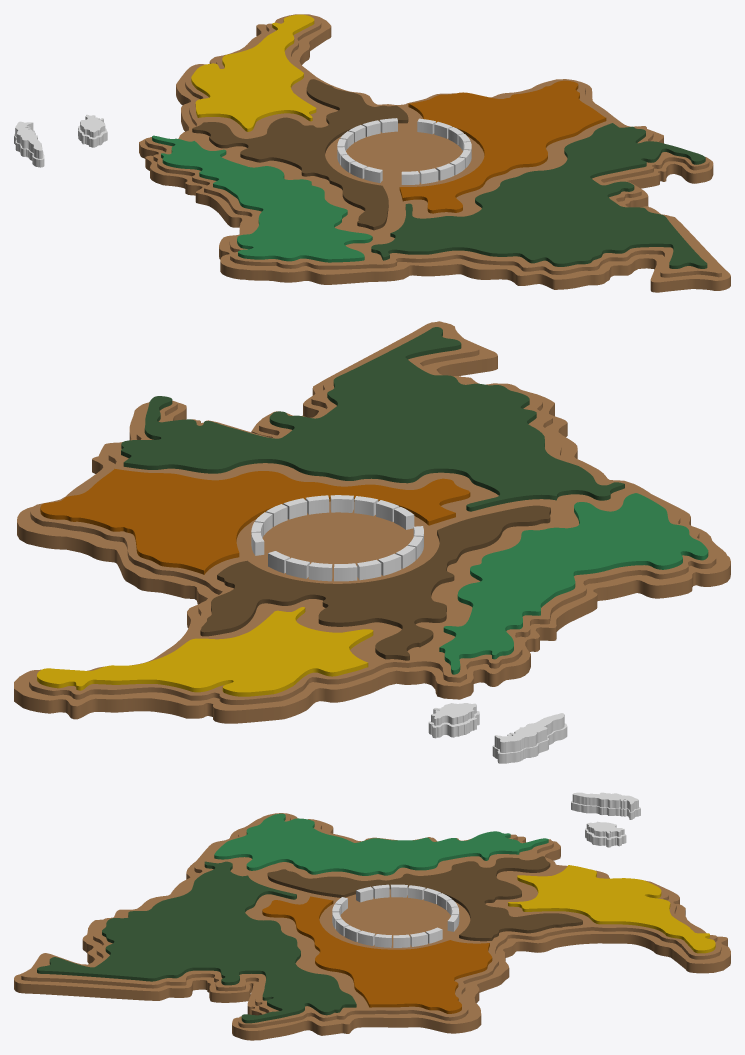
File: Colombia Prueba 01.fbx
3 renders of one model, top to bottom at view 1: azimuth 30°, elevation 25°; view 2: azimuth 150°, elevation 25°; view 3: azimuth 270°, elevation 25°, orthographic. The views are drawn at different scales.
Visible parts, largest first — view 1: Agua prueba, Curva Amazonas.002, Curva piso Colombia.002, Curva Orinoquia.002, Curva Pacifico.002, Curva Andina.002, Curva Atlantico.002, Muro.001, Curva San Andres.002; view 2: Curva Amazonas.002, Agua prueba, Curva piso Colombia.002, Curva Orinoquia.002, Curva Pacifico.002, Curva Andina.002, Curva Atlantico.002, Muro.001, Curva San Andres.002, Curva San Andres.003, Curva Providencia.002, Curva Providencia.003; view 3: Agua prueba, Curva Amazonas.002, Curva piso Colombia.002, Curva Orinoquia.002, Curva Pacifico.002, Curva Andina.002, Curva Atlantico.002, Muro.001, Curva San Andres.002, Curva San Andres.003, Curva Providencia.002, Curva Providencia.003.
Part boxes in pixels (x1,y1,x2,y2): Agua prueba: [145, 17, 721, 277]; Curva Amazonas.002: [371, 123, 707, 268]; Curva piso Colombia.002: [139, 14, 730, 292]; Curva Orinoquia.002: [399, 80, 606, 213]; Curva Pacifico.002: [152, 135, 372, 262]; Curva Andina.002: [192, 79, 408, 230]; Curva Atlantico.002: [191, 14, 316, 131]; Muro.001: [337, 118, 471, 184]; Curva San Andres.002: [15, 121, 42, 158]; Curva Amazonas.002: [121, 327, 624, 511]; Agua prueba: [29, 321, 716, 704]; Curva piso Colombia.002: [14, 322, 730, 723]; Curva Orinoquia.002: [40, 468, 470, 574]; Curva Pacifico.002: [439, 493, 708, 674]; Curva Andina.002: [200, 505, 550, 660]; Curva Atlantico.002: [37, 607, 373, 696]; Muro.001: [251, 495, 423, 581]; Curva San Andres.002: [494, 713, 564, 752]; Curva San Andres.003: [492, 723, 567, 763]; Curva Providencia.002: [431, 703, 476, 725]; Curva Providencia.003: [428, 711, 479, 738]; Agua prueba: [21, 814, 721, 1027]; Curva Amazonas.002: [37, 861, 356, 1023]; Curva piso Colombia.002: [14, 813, 730, 1040]; Curva Orinoquia.002: [262, 896, 492, 1013]; Curva Pacifico.002: [214, 813, 548, 875]; Curva Andina.002: [267, 856, 582, 941]; Curva Atlantico.002: [508, 865, 715, 953]; Muro.001: [332, 884, 459, 947]; Curva San Andres.002: [572, 792, 638, 812]; Curva San Andres.003: [571, 800, 640, 819]; Curva Providencia.002: [586, 821, 624, 838]; Curva Providencia.003: [585, 828, 626, 847].
Bounding box in the file's own units: 2891 × 134 × 3771.
